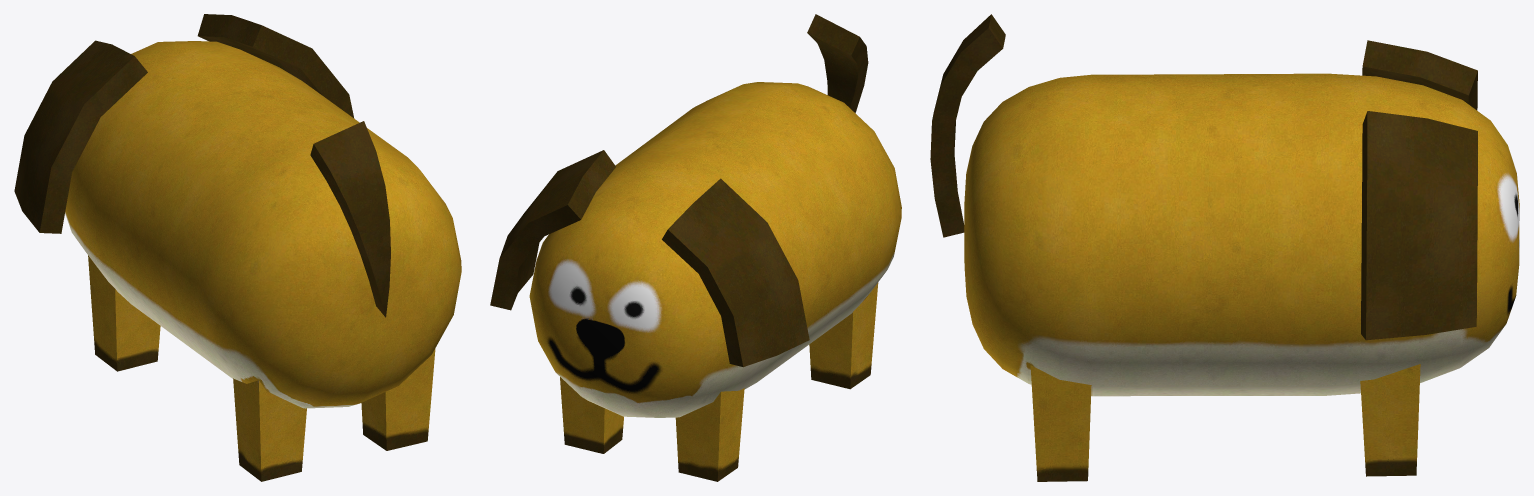
File: puppy_no_anim.FBX
The picture shows the model from 3 angles, left to right: view 1: azimuth 30°, elevation 25°; view 2: azimuth 150°, elevation 25°; view 3: azimuth 270°, elevation 25°; orthographic projection. The views are drawn at different scales.
Parts seen in each view (by area): view 1: Puppy_Reference; view 2: Puppy_Reference; view 3: Puppy_Reference.
Part boxes in pixels (<box>): Puppy_Reference: <box>14,14,461,481</box>; Puppy_Reference: <box>490,14,901,481</box>; Puppy_Reference: <box>930,14,1519,481</box>.
Size of the model in its own units: 31.62 by 33.48 by 43.94.
